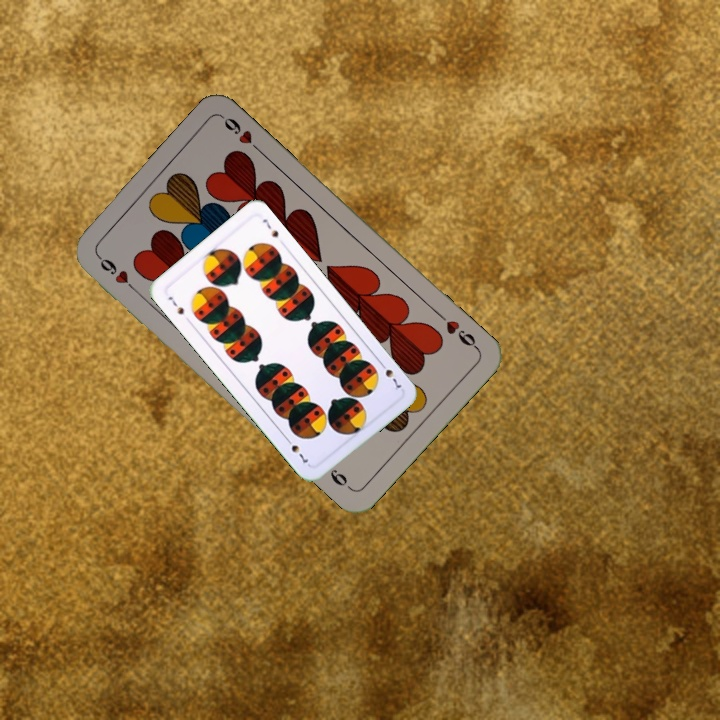H9: (93, 251, 140, 296), (433, 309, 481, 353)
S7: (375, 357, 405, 393), (164, 292, 186, 317)
